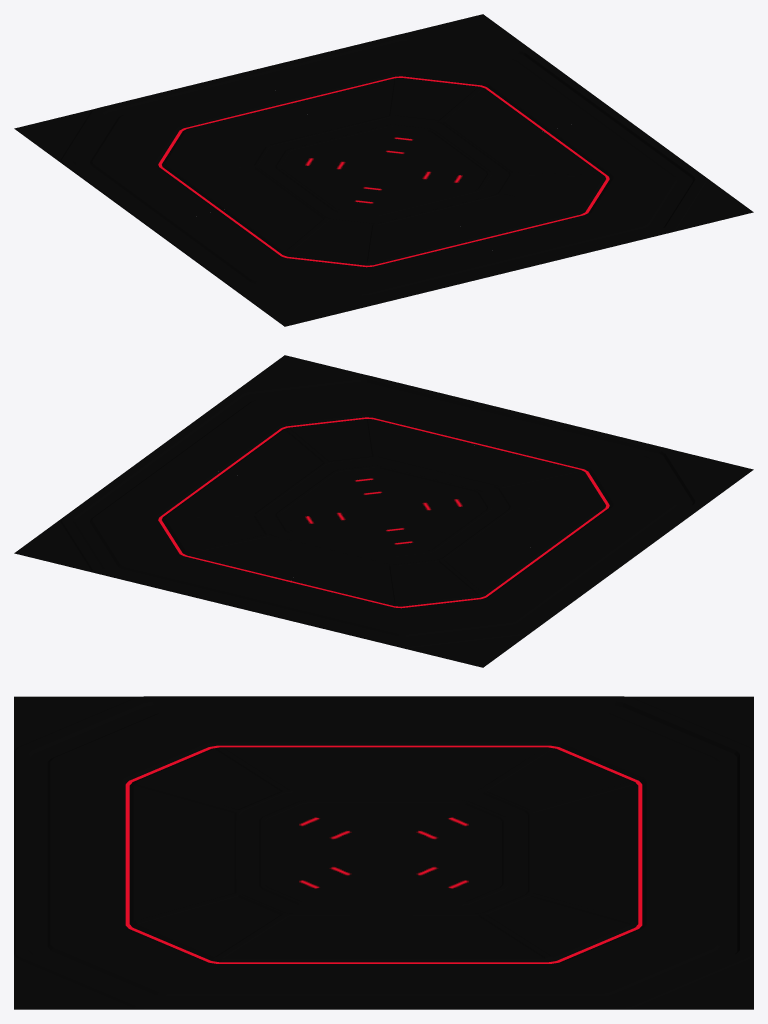
File: floor_01.fbx
3 views of the same model, one above another, from view 1: azimuth 30°, elevation 25°; view 2: azimuth 150°, elevation 25°; view 3: azimuth 270°, elevation 25° (orthographic). The views are drawn at different scales.
Parts seen in each view (by area): view 1: SM_Bld_Platform_Large_12_Variant; view 2: SM_Bld_Platform_Large_12_Variant; view 3: SM_Bld_Platform_Large_12_Variant.
Part boxes in pixels (left/top/right/bottom): SM_Bld_Platform_Large_12_Variant: left=14, top=14, right=753, bottom=326; SM_Bld_Platform_Large_12_Variant: left=14, top=355, right=753, bottom=667; SM_Bld_Platform_Large_12_Variant: left=14, top=696, right=753, bottom=1009.
Size of the model in its own units: 2000 by 8.09 by 2000.
